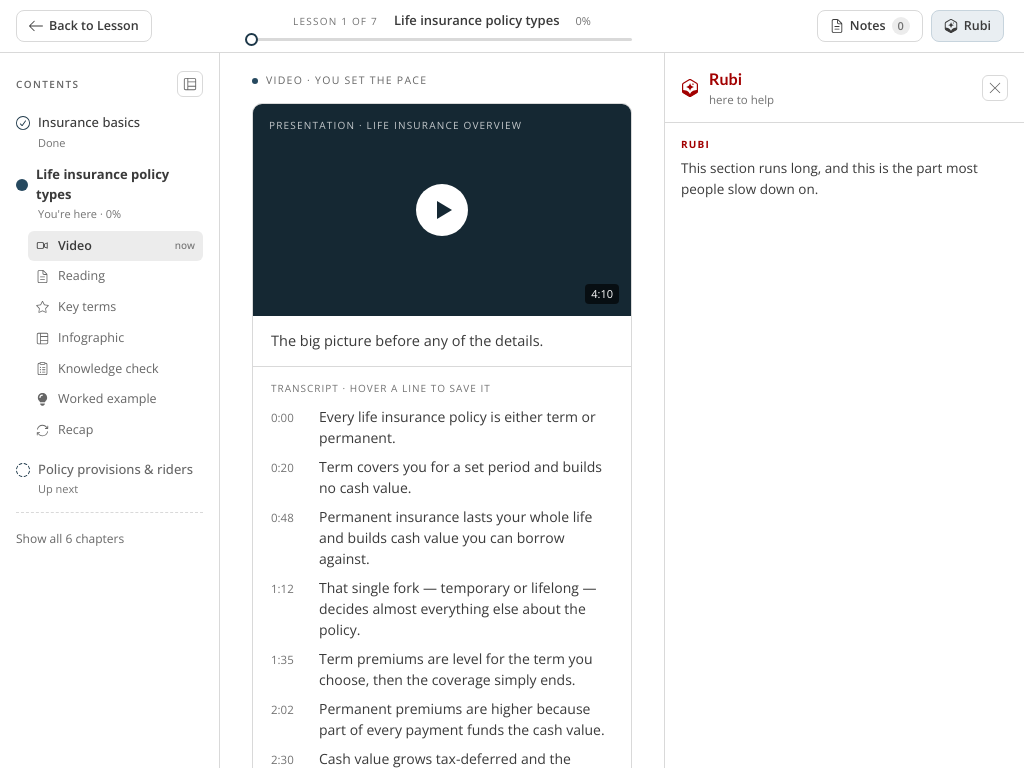
Test: the Infographic beat › off: the placeholder is back, untouched
Click the button "Infographic". click: coordinates (116, 338)
box: [28, 323, 203, 354]
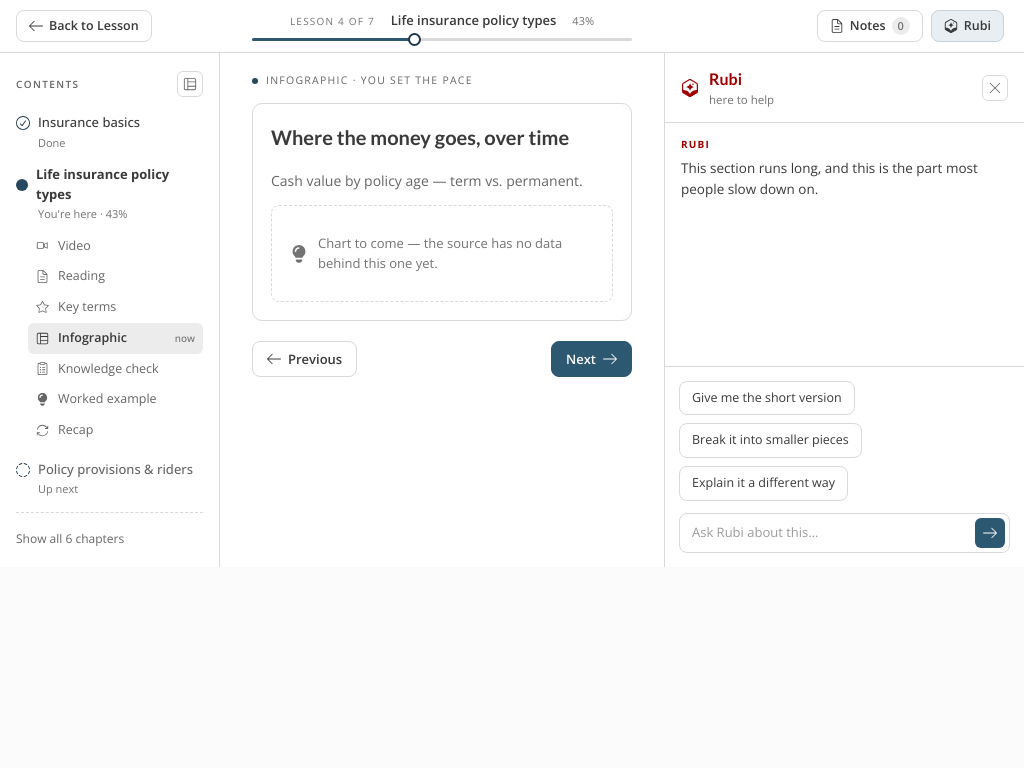
Expected: the text "Chart to come — the source has no data behind this one yet." is shown, [318, 234, 594, 273]
